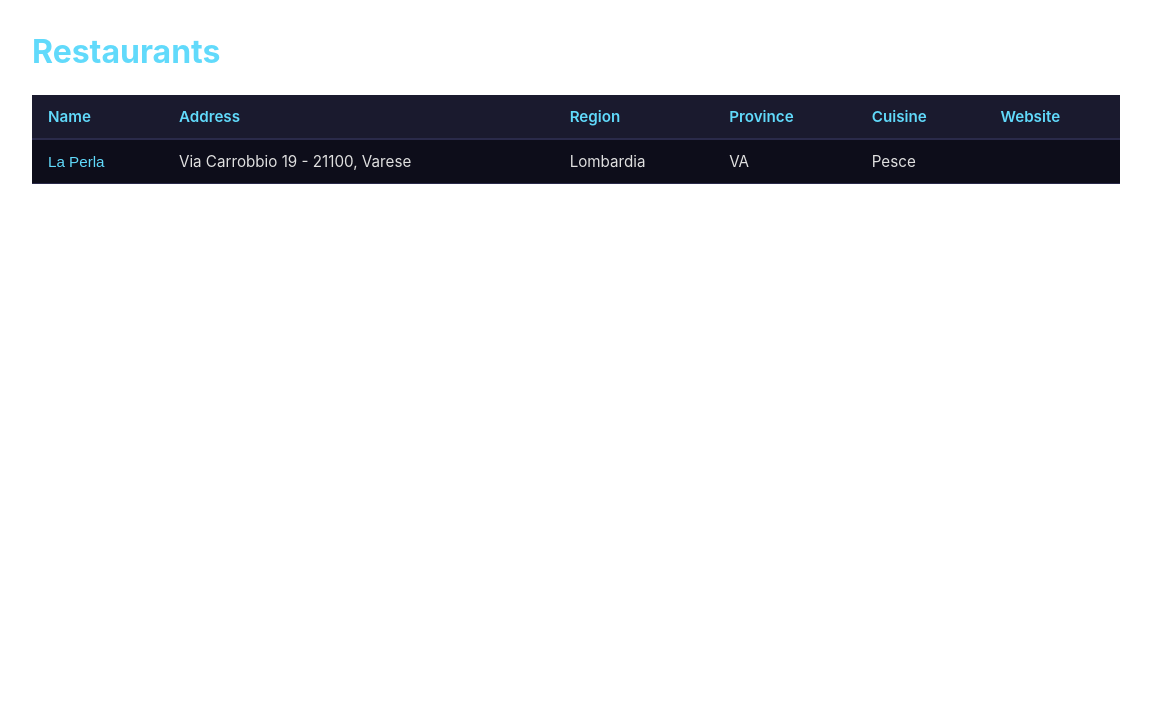
Test case: readers see the list and details but no write actions
This screenshot has width=1152, height=720.
Click the button "La Perla" at (76, 162), box [48,153,105,170]
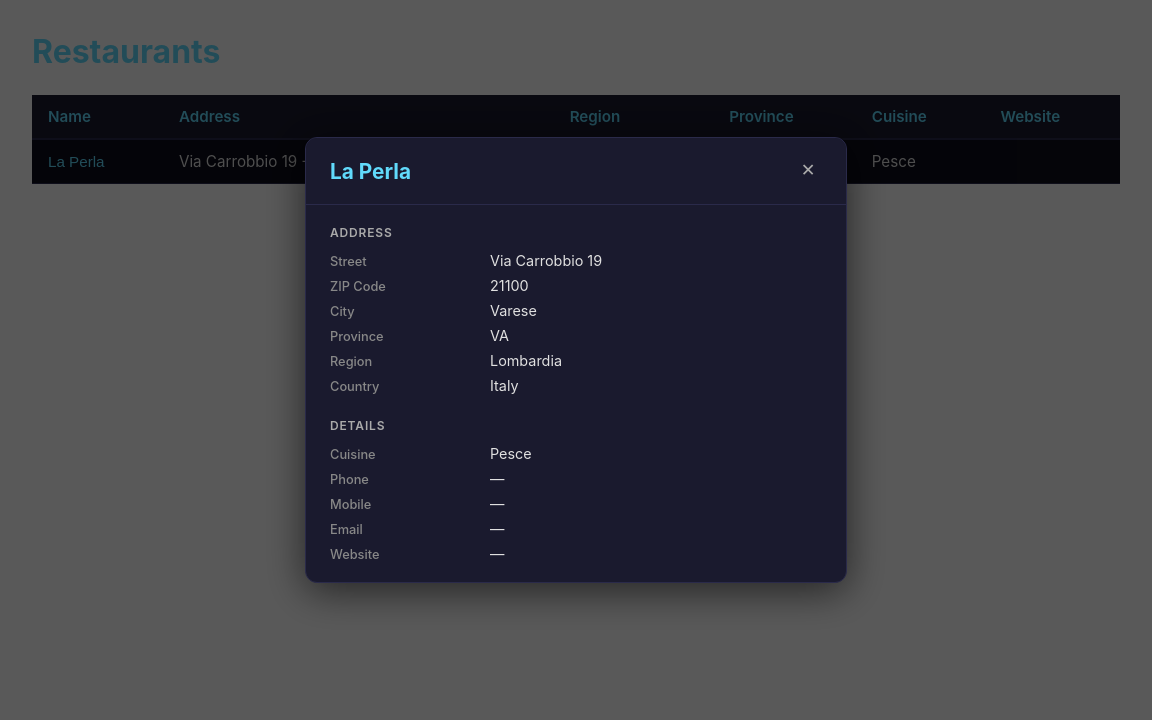
Expected: the heading "La Perla" is shown, [330,158,411,184]
